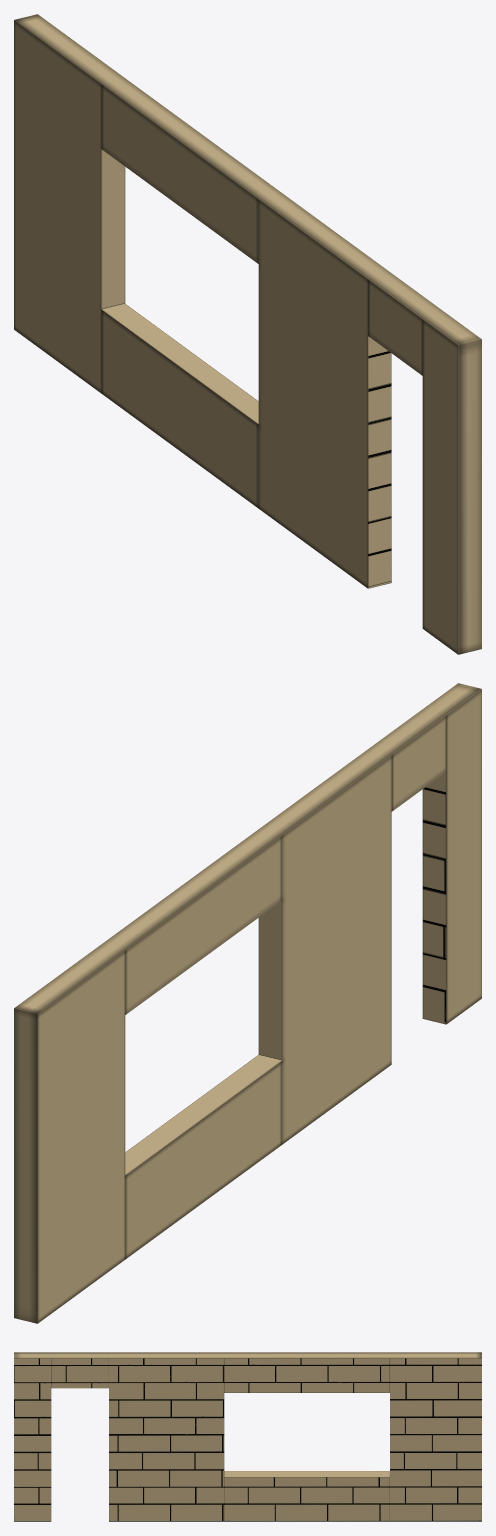
Rendered from PF_HouseWall.fbx.
3 views of the same model, one above another, from view 1: azimuth 30°, elevation 25°; view 2: azimuth 150°, elevation 25°; view 3: azimuth 270°, elevation 25° (orthographic). The views are drawn at different scales.
Parts seen in each view (by area): view 1: pCube2; view 2: pCube2; view 3: pCube2.
Boxes of the visible parts, x1=… form: pCube2: x1=14, y1=14, x2=481, y2=654; pCube2: x1=14, y1=683, x2=481, y2=1323; pCube2: x1=14, y1=1352, x2=481, y2=1521.
Bounding box in the file's own units: 20 × 250 × 650.
1 material, 1 textured.
